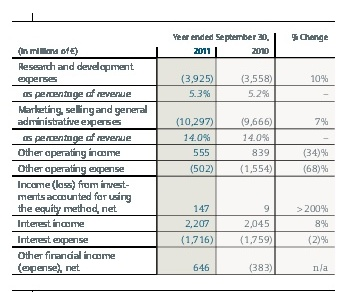table: (0, 0, 352, 292)
